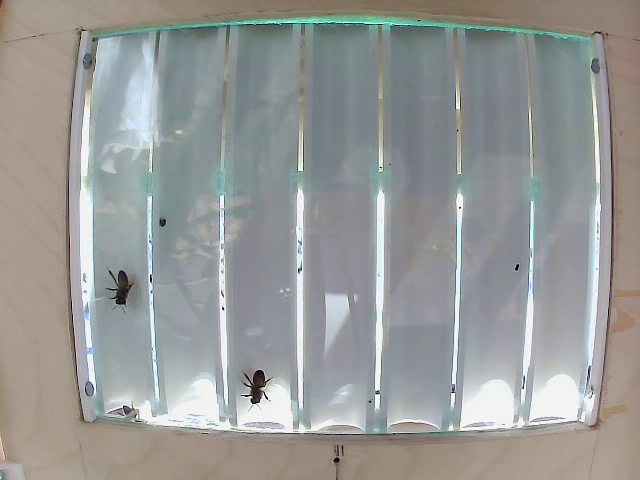bee: (241, 354, 282, 406)
